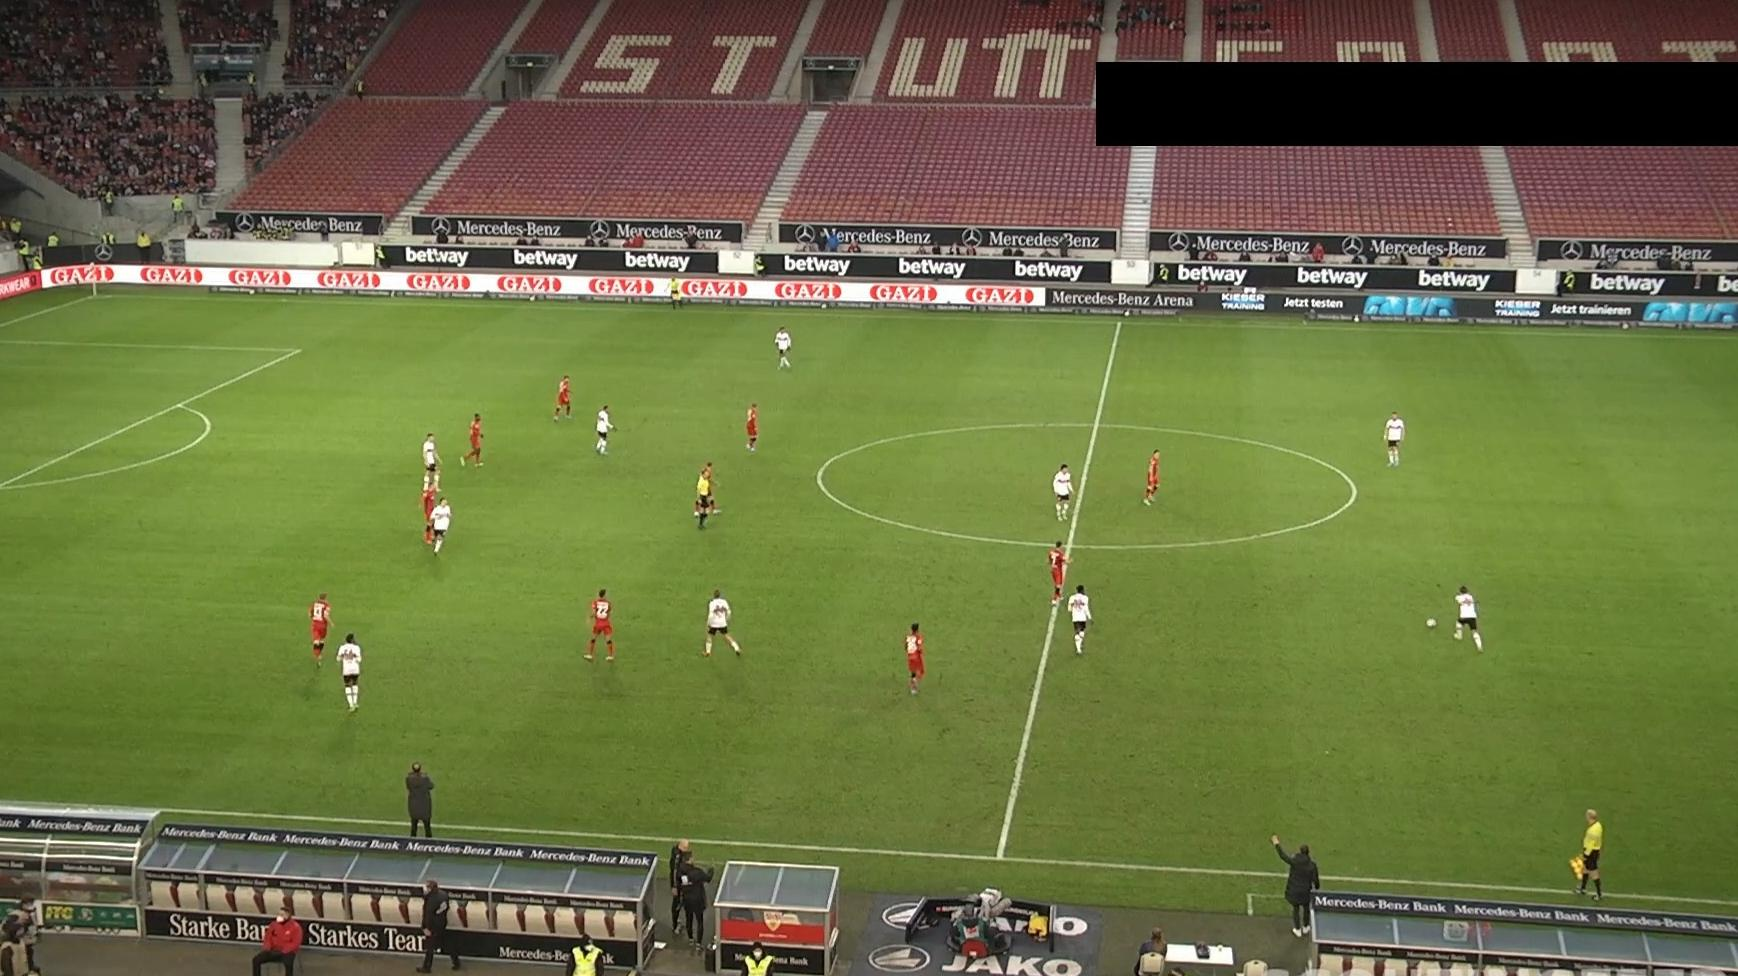ball: (1425, 617, 1437, 629)
